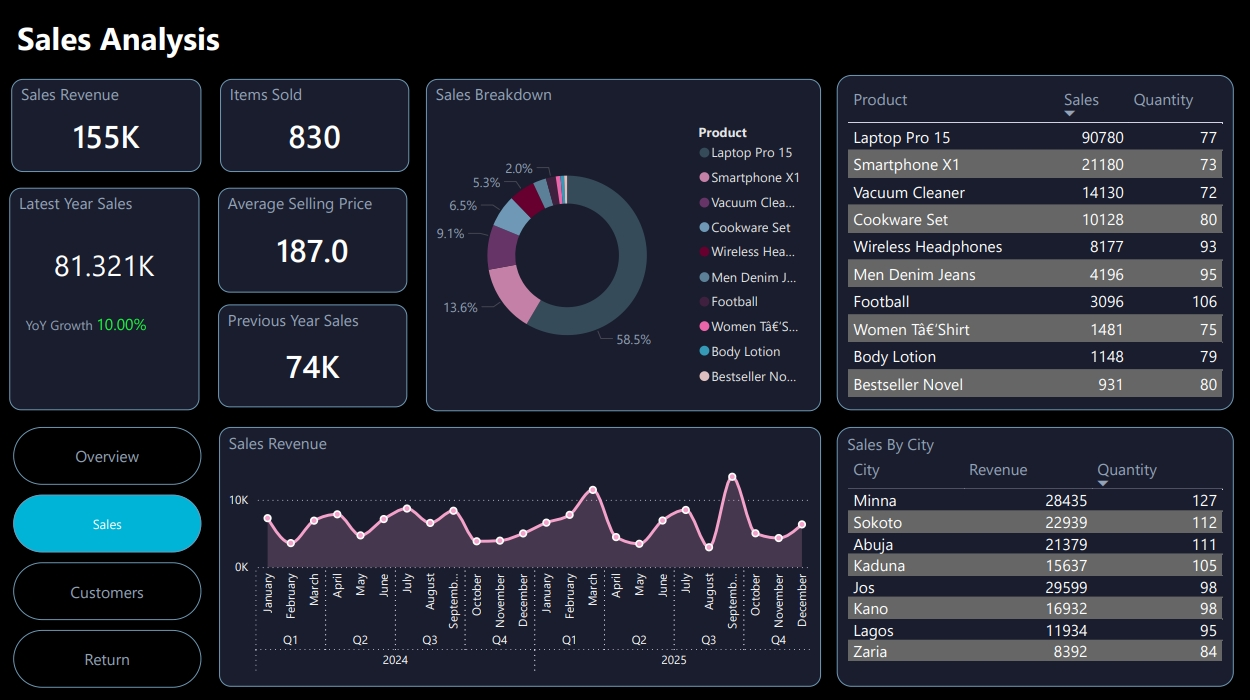

What the dashboard file says about the page in this screenshot:
{"tool":"powerbi","page":{"name":"Sales","canvas":[1280,720],"ordinal":1},"visuals":[{"type":"tableEx","title":"Sales By City","fields":{"Values":["retail_store_sales ecommerce_dataset_dashboard_table.City","retail_store_sales ecommerce_dataset_dashboard_table.Sales_Revenue","Sum(retail_store_sales ecommerce_dataset_dashboard_table.Quantity)"]},"box":[857.9,439.2,405,264.9],"z":2000},{"type":"card","title":"Sales Revenue","fields":{"Values":["retail_store_sales ecommerce_dataset_dashboard_table.Net_Sales"]},"box":[16.1,84.3,193.6,95],"z":3000},{"type":"card","title":"Items Sold","fields":{"Values":["retail_store_sales ecommerce_dataset_dashboard_table.Total_Items_Sold"]},"box":[229,83.7,193.1,95.7],"z":4000},{"type":"card","title":"Average Selling Price","fields":{"Values":["retail_store_sales ecommerce_dataset_dashboard_table.Average_Price_Per_Sale"]},"box":[227.3,194.8,193.1,107.7],"z":5000},{"type":"card","title":"Previous Year Sales","fields":{"Values":["retail_store_sales ecommerce_dataset_dashboard_table.Previous_Year_Sales"]},"box":[227.3,314.4,193.1,104.2],"z":6000},{"type":"cardVisual","title":"Latest Year Sales","fields":{"Data":["retail_store_sales ecommerce_dataset_dashboard_table.Latest_Year_Sales"]},"box":[13.7,194.8,194.8,227.3],"z":7000},{"type":"tableEx","fields":{"Values":["retail_store_sales ecommerce_dataset_dashboard_table.ProductName","retail_store_sales ecommerce_dataset_dashboard_table.Net_Sales","Sum(retail_store_sales ecommerce_dataset_dashboard_table.Quantity)"]},"box":[857.9,80.3,405,341.8],"z":8000},{"type":"donutChart","title":"Sales Breakdown","fields":{"Y":["retail_store_sales ecommerce_dataset_dashboard_table.Net_Sales"],"Category":["retail_store_sales ecommerce_dataset_dashboard_table.ProductName"]},"box":[439.3,83.8,402.6,339.4],"z":9000},{"type":"lineChart","title":"Sales Revenue","fields":{"Y":["retail_store_sales ecommerce_dataset_dashboard_table.Sales_Revenue"],"Category":["DateTable.Year","DateTable.Quarter","DateTable.Month"]},"box":[227.8,439.3,614.2,264.5],"z":10000},{"type":"pageNavigator","box":[17.9,439.2,191.8,265.3],"z":11000},{"type":"textbox","box":[17.1,15.4,403.3,53],"z":12000}]}

Visuals, with their boxes in screenshot pixels (x1, y1, x2, y2), scaled from the page's 1280x720 canvas onto the 1250x700 screenshot:
"Sales By City" tableEx: crop(838, 427, 1233, 685)
"Sales Revenue" card: crop(16, 82, 205, 174)
"Items Sold" card: crop(224, 81, 412, 174)
"Average Selling Price" card: crop(222, 189, 411, 294)
"Previous Year Sales" card: crop(222, 306, 411, 407)
"Latest Year Sales" cardVisual: crop(13, 189, 204, 410)
tableEx - retail_store_sales ecommerce_dataset_dashboard_table.ProductName x retail_store_sales ecommerce_dataset_dashboard_table.Net_Sales: crop(838, 78, 1233, 410)
"Sales Breakdown" donutChart: crop(429, 81, 822, 411)
"Sales Revenue" lineChart: crop(222, 427, 822, 684)
pageNavigator: crop(17, 427, 205, 685)
textbox: crop(17, 15, 411, 66)
